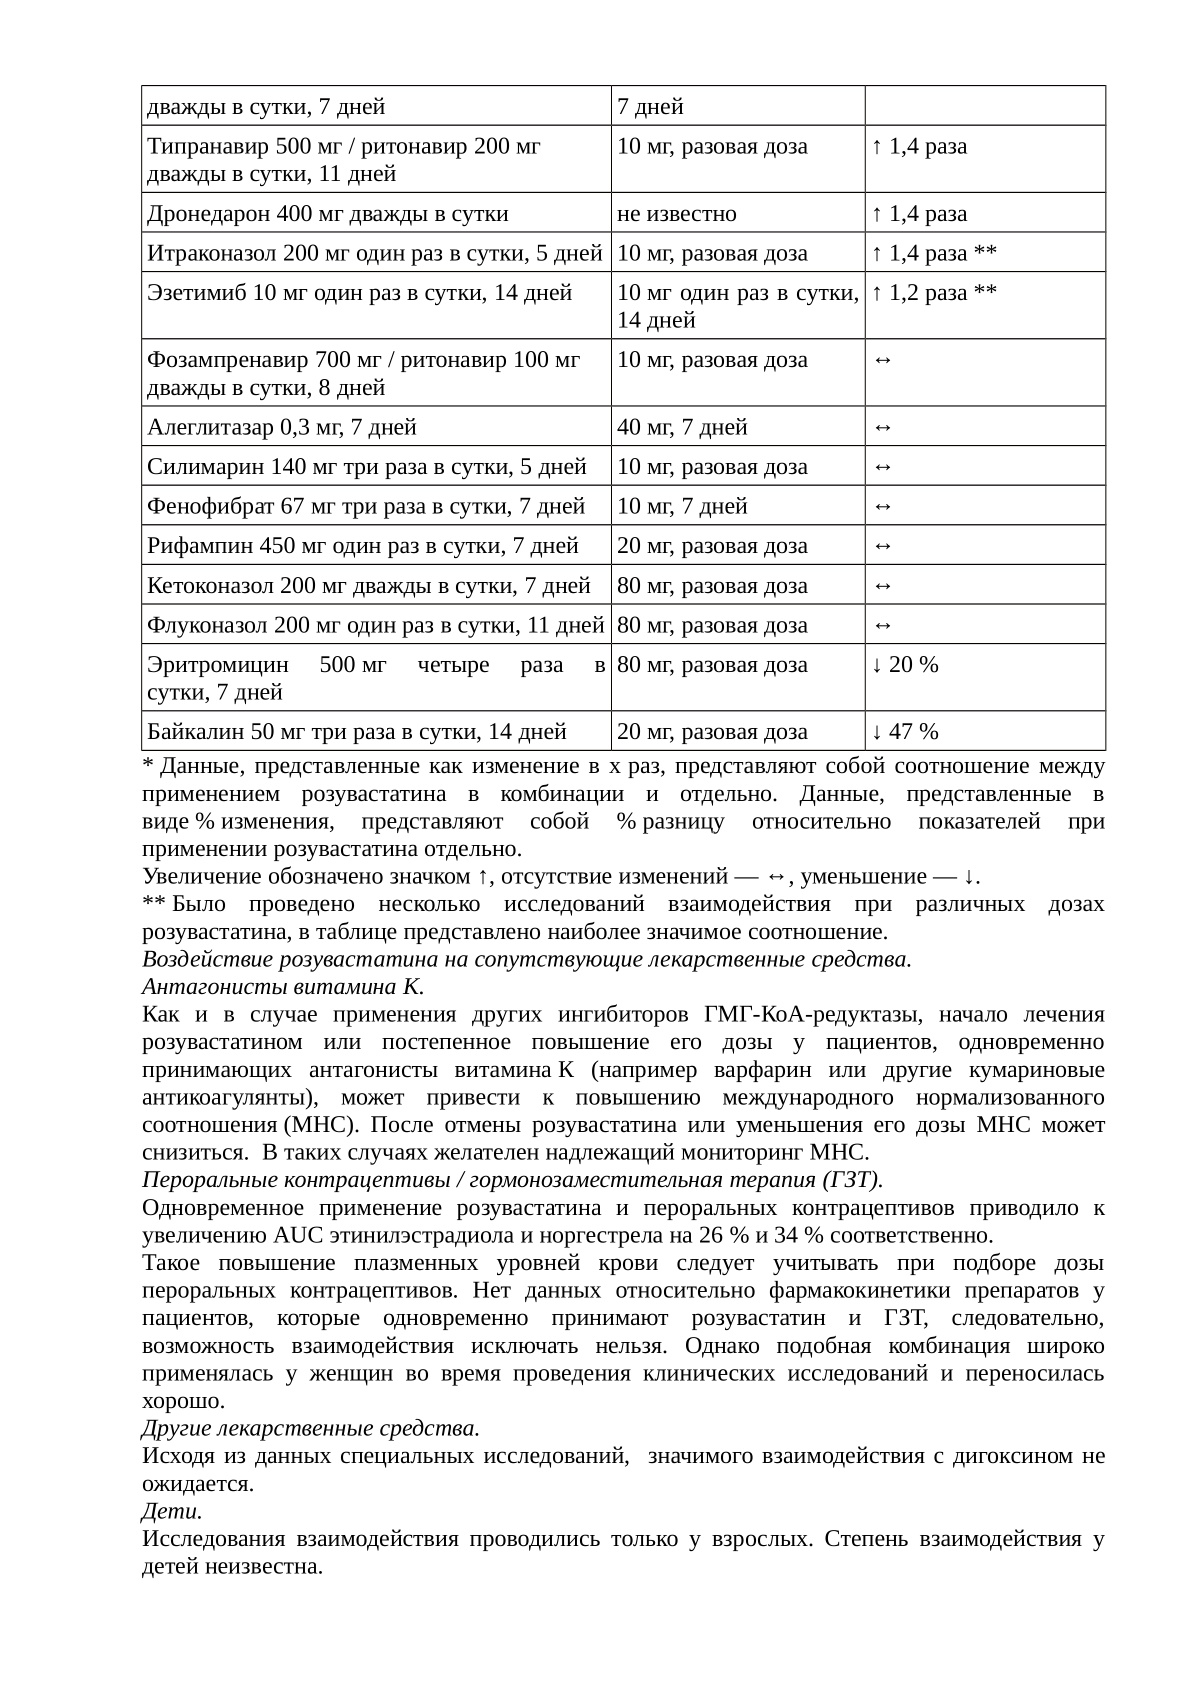full_lined: (140, 84, 1108, 752)
